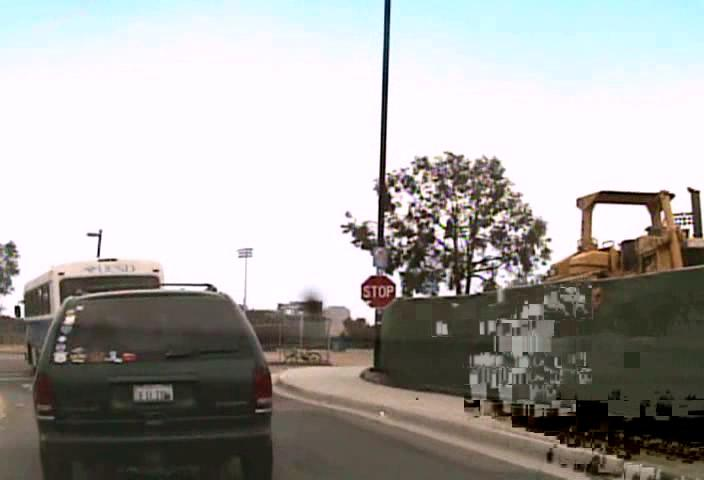stop: (359, 274, 396, 308)
